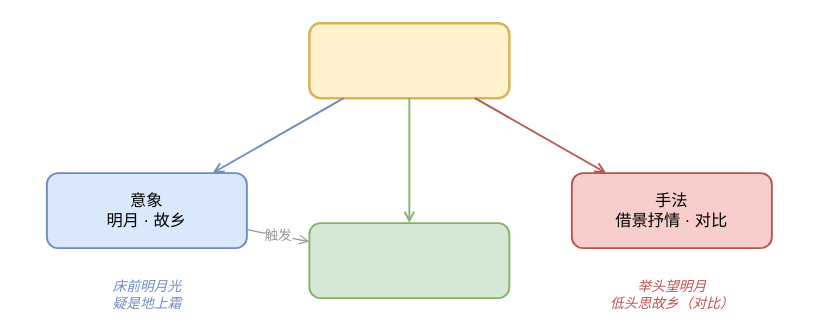
Image size: 818x334. Some labels were removed from this diagram. The centre of each missing label's shape, as x and y in pixels:
《静夜思》 李白: [409,60]
情感 思乡 · 孤寂: [409,260]
